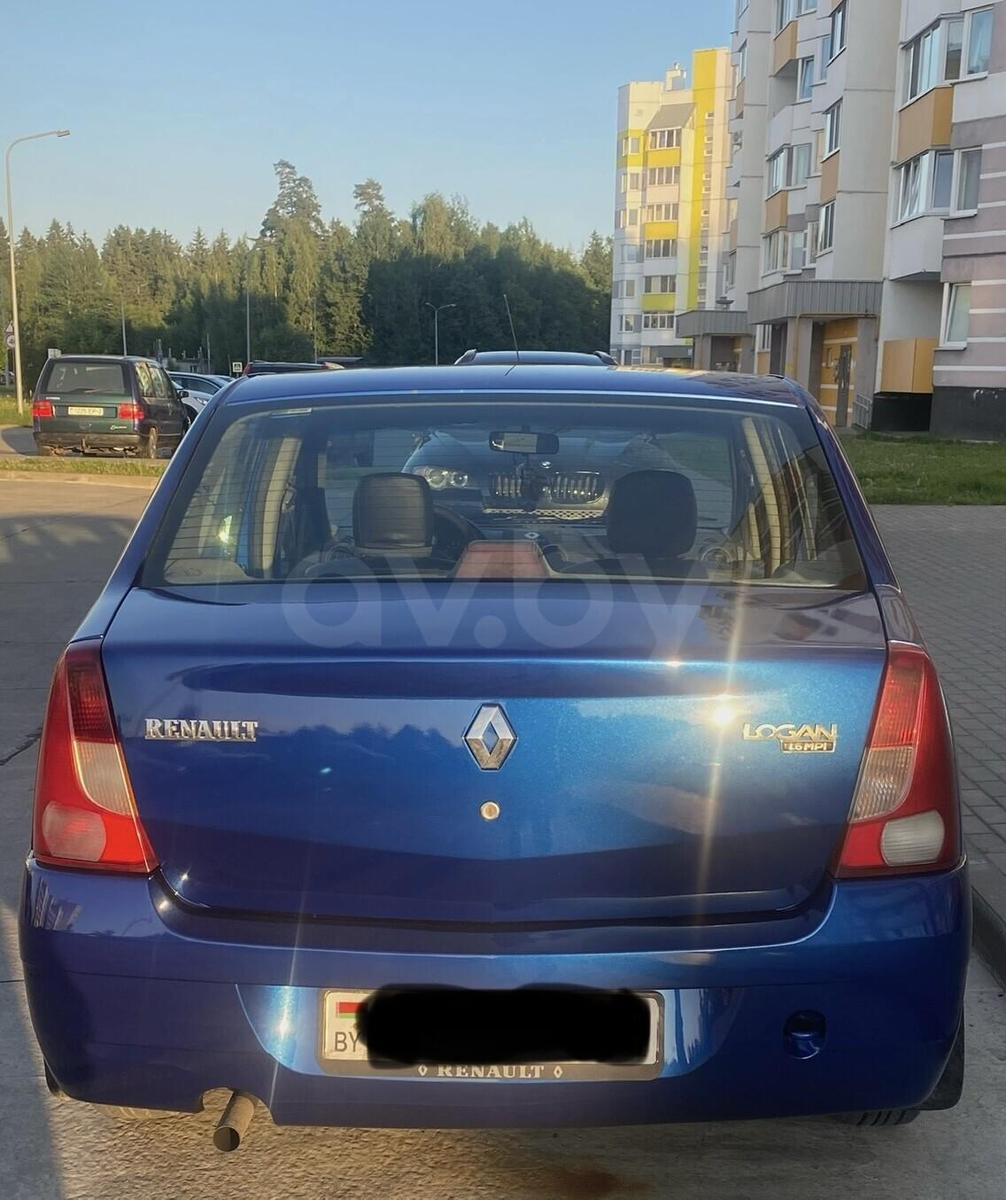Logan_2004-2009: (15, 368, 987, 1148)
